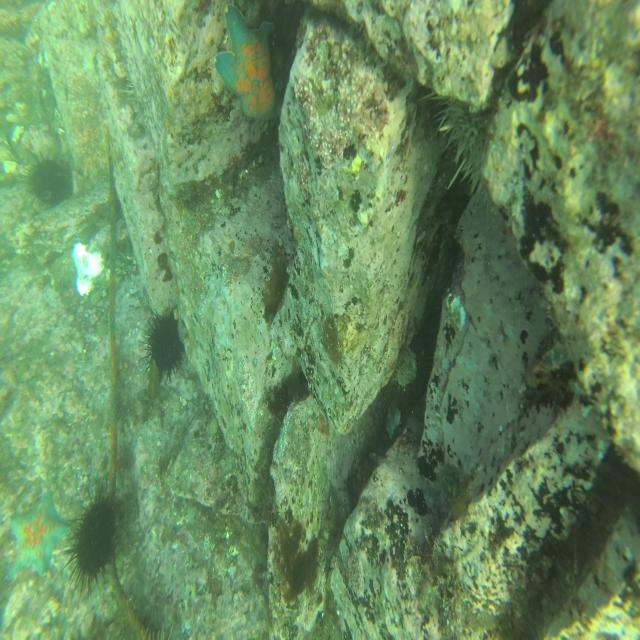echinus: (425, 81, 509, 216), (68, 485, 121, 590), (142, 305, 188, 376), (22, 149, 73, 212)
starfish: (211, 1, 283, 127), (9, 492, 69, 586)
